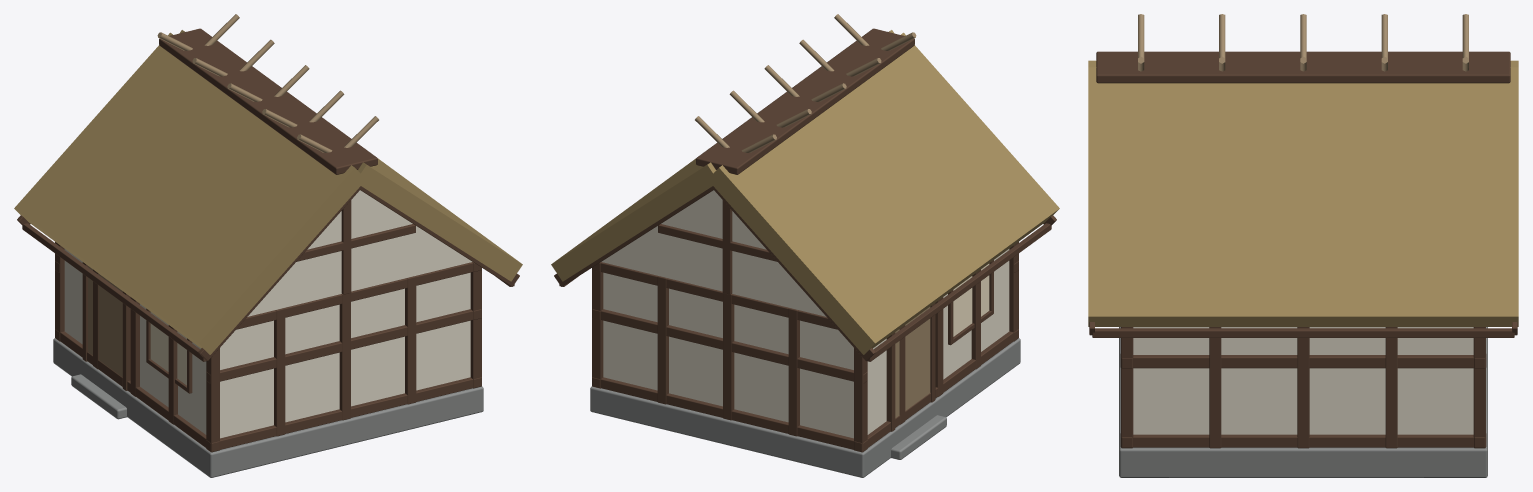
The model's file is village-cottage.glb.
3 renders of one model, left to right at view 1: azimuth 30°, elevation 25°; view 2: azimuth 150°, elevation 25°; view 3: azimuth 270°, elevation 25°, orthographic. The views are drawn at different scales.
Parts seen in each view (by area): view 1: cell-0-1:village-thatch, cell-0-0:village-thatch, cell-0-1:village-plaster, cell-1-1:village-plaster, cell-0-1:village-cedar, cell-1-1:village-cedar, cell-0-0:village-cedar, cell-0-1:village-stone, cell-1-1:village-thatch, cell-1-1:village-stone, cell-0-0:planks, cell-0-0:village-stone (+6 smaller); view 2: cell-0-0:village-thatch, cell-0-1:village-thatch, cell-1-0:village-plaster, cell-0-0:village-plaster, cell-0-0:village-cedar, cell-1-0:village-cedar, cell-0-1:village-cedar, cell-0-0:village-stone, cell-1-0:village-thatch, cell-1-0:village-stone, cell-0-0:planks, cell-0-1:village-plaster (+5 smaller); view 3: cell-1-0:village-thatch, cell-1-1:village-thatch, cell-1-0:village-cedar, cell-1-1:village-cedar, cell-1-0:village-plaster, cell-1-1:village-plaster, cell-1-0:village-stone, cell-1-1:village-stone, cell-0-0:village-cedar, cell-0-1:village-cedar, cell-0-0:planks, cell-0-1:planks.
Boxes of the visible parts, x1,y1,x2,y2 form: cell-0-1:village-thatch: (106, 113, 360, 354); cell-0-0:village-thatch: (14, 32, 250, 286); cell-0-1:village-plaster: (140, 211, 341, 438); cell-1-1:village-plaster: (351, 190, 472, 406); cell-0-1:village-cedar: (112, 98, 360, 452); cell-1-1:village-cedar: (269, 93, 519, 419); cell-0-0:village-cedar: (17, 33, 267, 394); cell-0-1:village-stone: (131, 395, 347, 477); cell-1-1:village-thatch: (357, 162, 522, 281); cell-1-1:village-stone: (347, 386, 483, 444); cell-0-0:planks: (88, 32, 230, 376); cell-0-0:village-stone: (53, 338, 132, 419); cell-0-0:village-thatch: (713, 113, 967, 354); cell-0-1:village-thatch: (823, 32, 1059, 286); cell-1-0:village-plaster: (601, 190, 722, 406); cell-0-0:village-plaster: (732, 211, 886, 438); cell-0-0:village-cedar: (713, 98, 961, 452); cell-1-0:village-cedar: (554, 93, 804, 419); cell-0-1:village-cedar: (806, 33, 1056, 394); cell-0-0:village-stone: (726, 395, 946, 477); cell-1-0:village-thatch: (551, 162, 716, 281); cell-1-0:village-stone: (590, 386, 726, 444); cell-0-0:planks: (741, 83, 930, 417); cell-0-1:village-plaster: (943, 249, 1009, 379); cell-1-0:village-thatch: (1303, 67, 1518, 326); cell-1-1:village-thatch: (1088, 67, 1303, 326); cell-1-0:village-cedar: (1303, 63, 1517, 448); cell-1-1:village-cedar: (1089, 63, 1303, 448); cell-1-0:village-plaster: (1309, 327, 1473, 434); cell-1-1:village-plaster: (1133, 327, 1297, 434); cell-1-0:village-stone: (1303, 372, 1487, 477); cell-1-1:village-stone: (1119, 372, 1303, 477); cell-0-0:village-cedar: (1306, 51, 1510, 63); cell-0-1:village-cedar: (1096, 51, 1300, 63); cell-0-0:planks: (1303, 14, 1468, 58); cell-0-1:planks: (1138, 14, 1303, 58).
Bounding box in the file's own units: 5.37 × 4.97 × 5.3.
